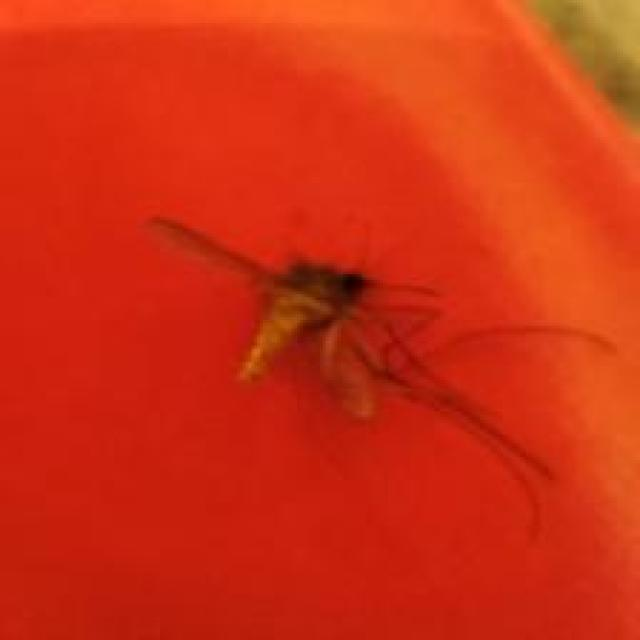Culex: (144, 207, 619, 544)
